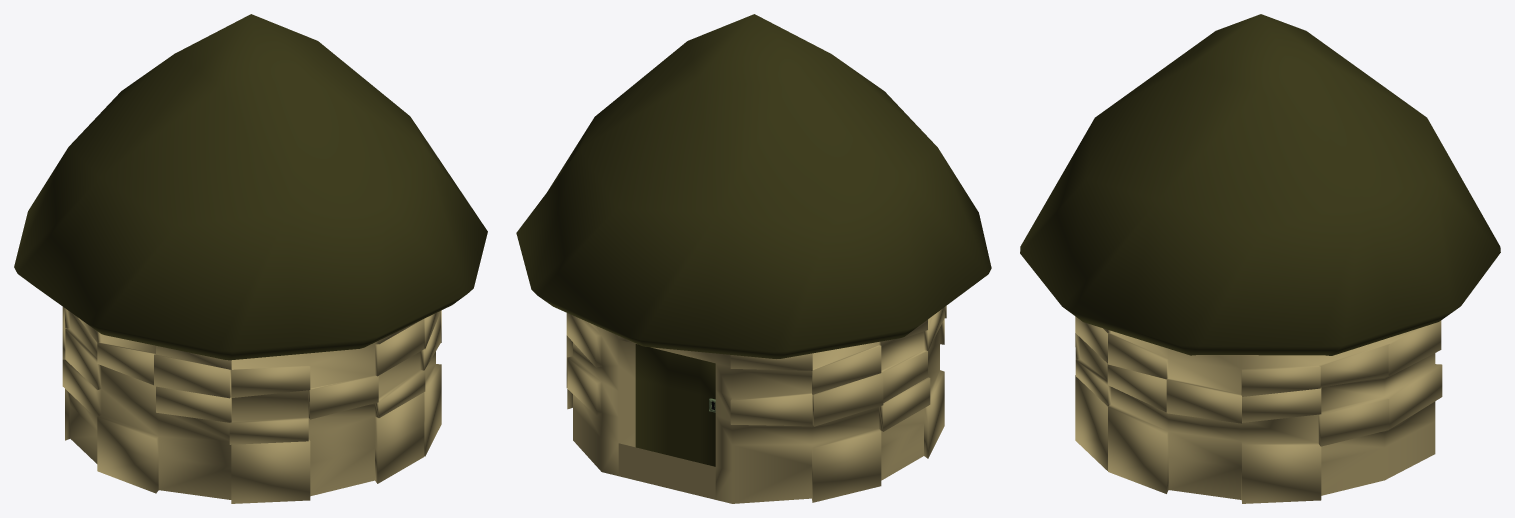
The model's file is SaveHut.fbx.
3 renders of one model, left to right at view 1: azimuth 30°, elevation 25°; view 2: azimuth 150°, elevation 25°; view 3: azimuth 270°, elevation 25°, orthographic.
Parts seen in each view (by area): view 1: SaveHut_Roof, SaveHut_Walls; view 2: SaveHut_Roof, SaveHut_Walls; view 3: SaveHut_Roof, SaveHut_Walls.
Part boxes in pixels (bbox=[...]): SaveHut_Roof: bbox=[14, 14, 487, 360]; SaveHut_Walls: bbox=[62, 307, 441, 503]; SaveHut_Roof: bbox=[516, 14, 991, 358]; SaveHut_Walls: bbox=[566, 306, 946, 503]; SaveHut_Roof: bbox=[1020, 14, 1500, 355]; SaveHut_Walls: bbox=[1075, 316, 1442, 503].
Size of the model in its own units: 6.46 by 6.37 by 6.76.
